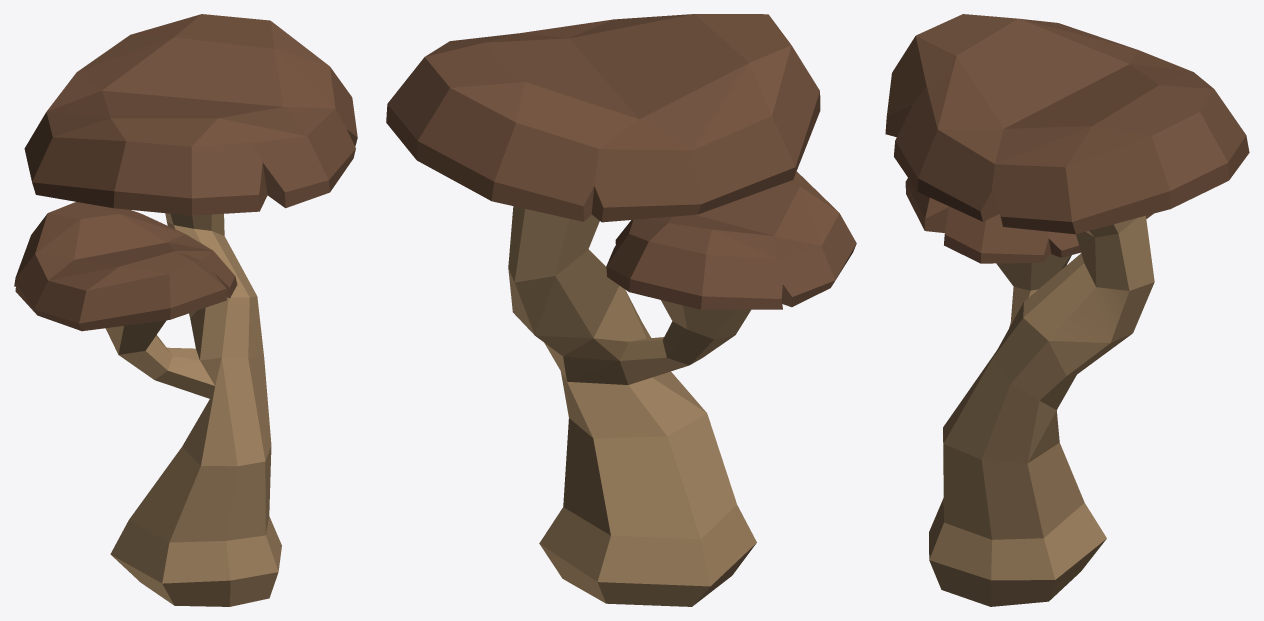
File: worlds_SM_Env_Plant_Mushroom_02.gltf
3 views of the same model, side by side, from view 1: azimuth 30°, elevation 25°; view 2: azimuth 150°, elevation 25°; view 3: azimuth 270°, elevation 25° (orthographic). The views are drawn at different scales.
Visible parts, largest first — view 1: SM_Env_Plant_Mushroom_02; view 2: SM_Env_Plant_Mushroom_02; view 3: SM_Env_Plant_Mushroom_02.
Boxes of the visible parts, left/top/right/bottom form: SM_Env_Plant_Mushroom_02: left=14, top=14, right=357, bottom=606; SM_Env_Plant_Mushroom_02: left=386, top=14, right=856, bottom=606; SM_Env_Plant_Mushroom_02: left=885, top=14, right=1249, bottom=606.
Size of the model in its own units: 5.58 by 7.71 by 4.87.
1 material, 1 textured.
